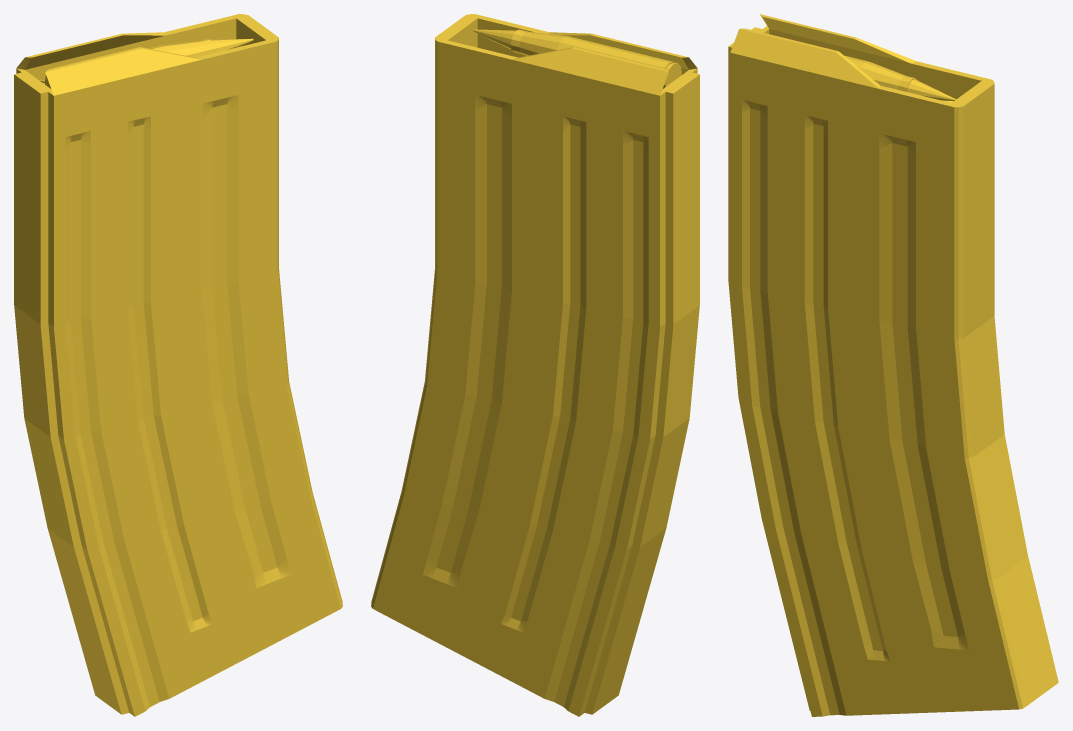
File: SM_M4A1_Magazine.fbx
3 views of the same model, side by side, from view 1: azimuth 30°, elevation 25°; view 2: azimuth 150°, elevation 25°; view 3: azimuth 330°, elevation 25° (orthographic).
Parts seen in each view (by area): view 1: SM_M4A1_Magazine; view 2: SM_M4A1_Magazine; view 3: SM_M4A1_Magazine.
Part boxes in pixels (x1=…): SM_M4A1_Magazine: x1=14, y1=14, x2=342, y2=716; SM_M4A1_Magazine: x1=371, y1=14, x2=699, y2=716; SM_M4A1_Magazine: x1=728, y1=14, x2=1058, y2=716.
Bounding box in the file's own units: 8.16 × 17.1 × 1.77.
